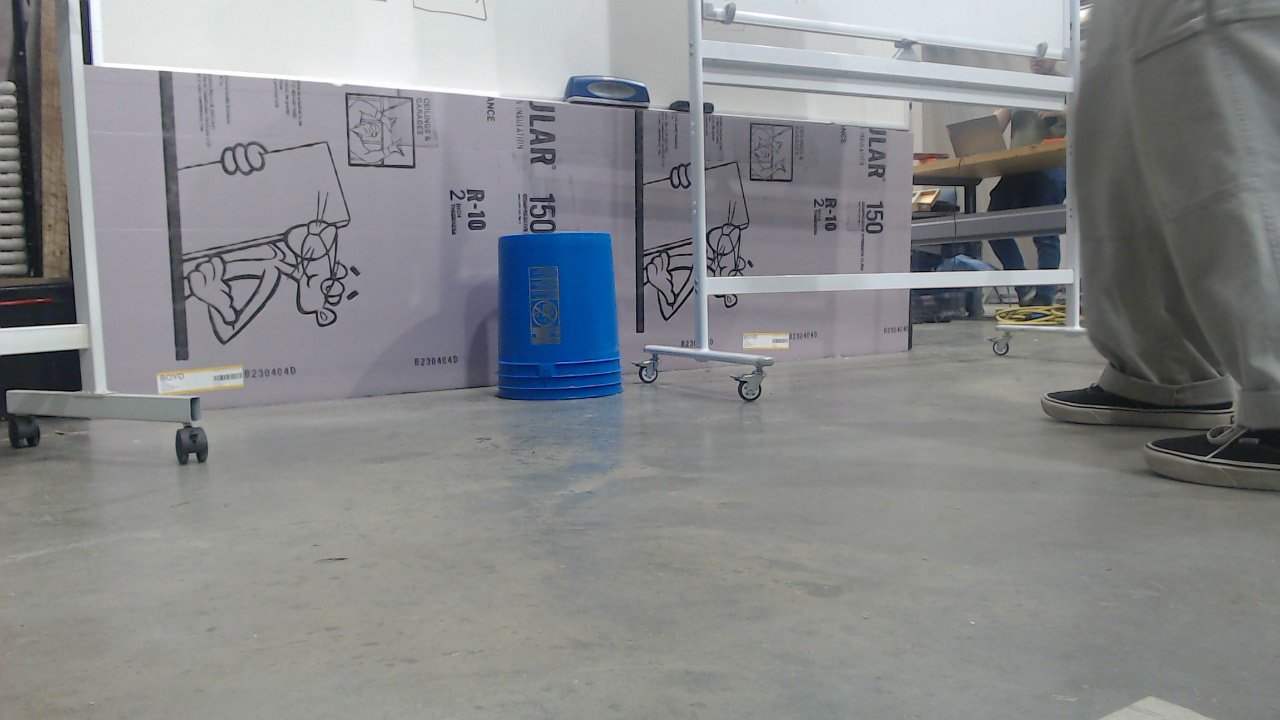blue_bucket: (494, 231, 635, 409)
